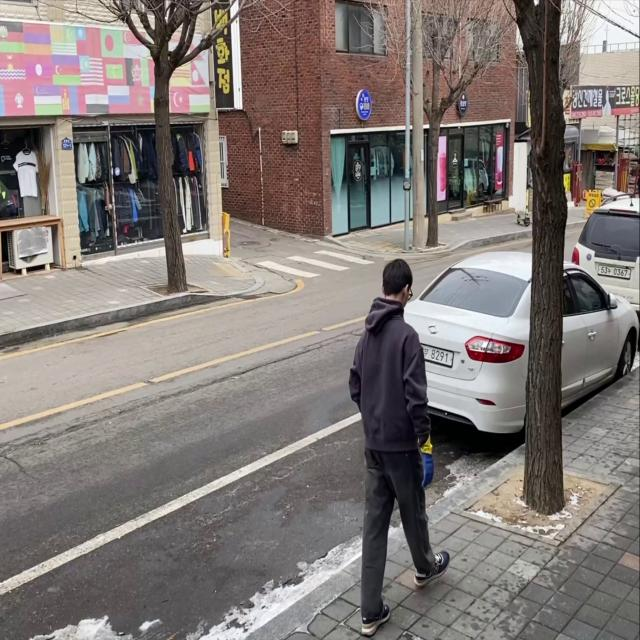gloved_hand: (418, 451, 438, 493)
